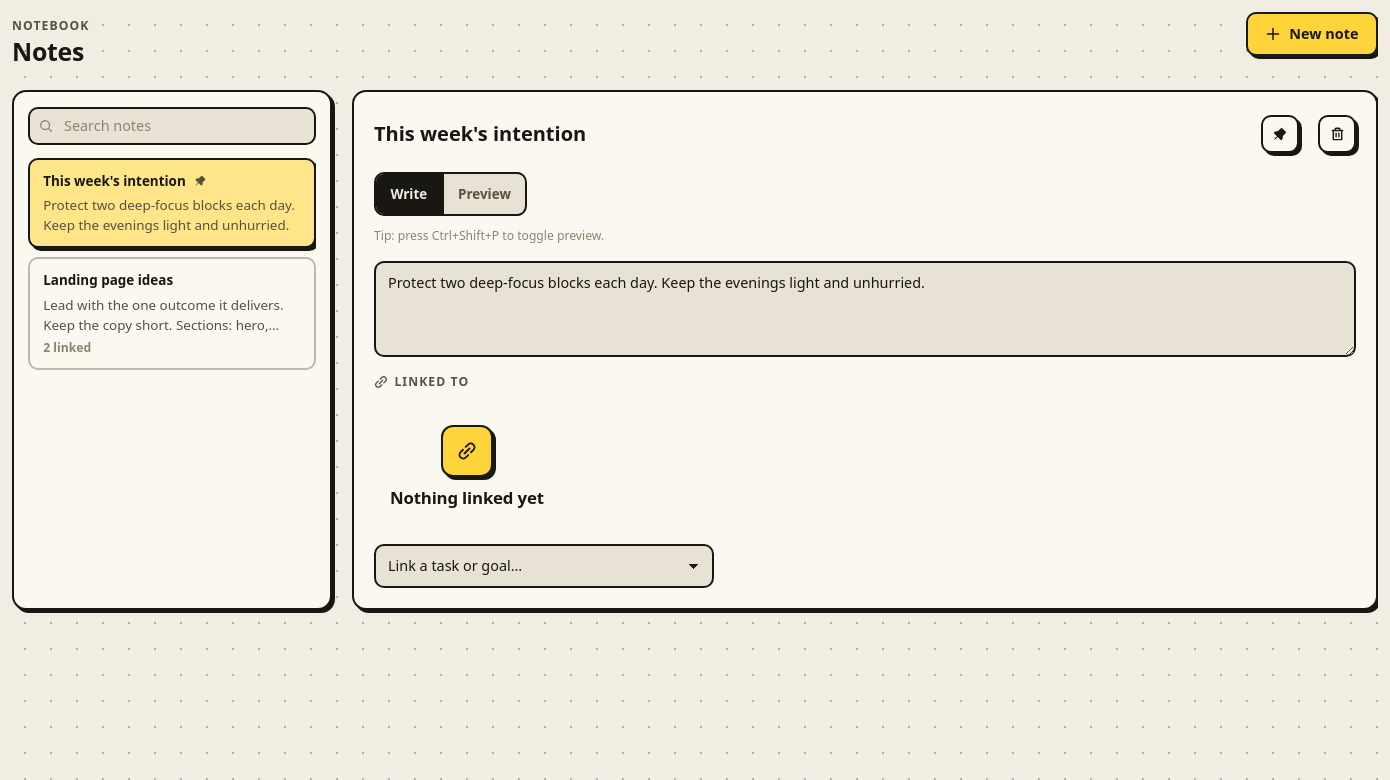
Test: NotesView › lists notes and opens an editor showing linked task and goal
Click the text "Landing page ideas": click(108, 280) 43,270 -> 173,291
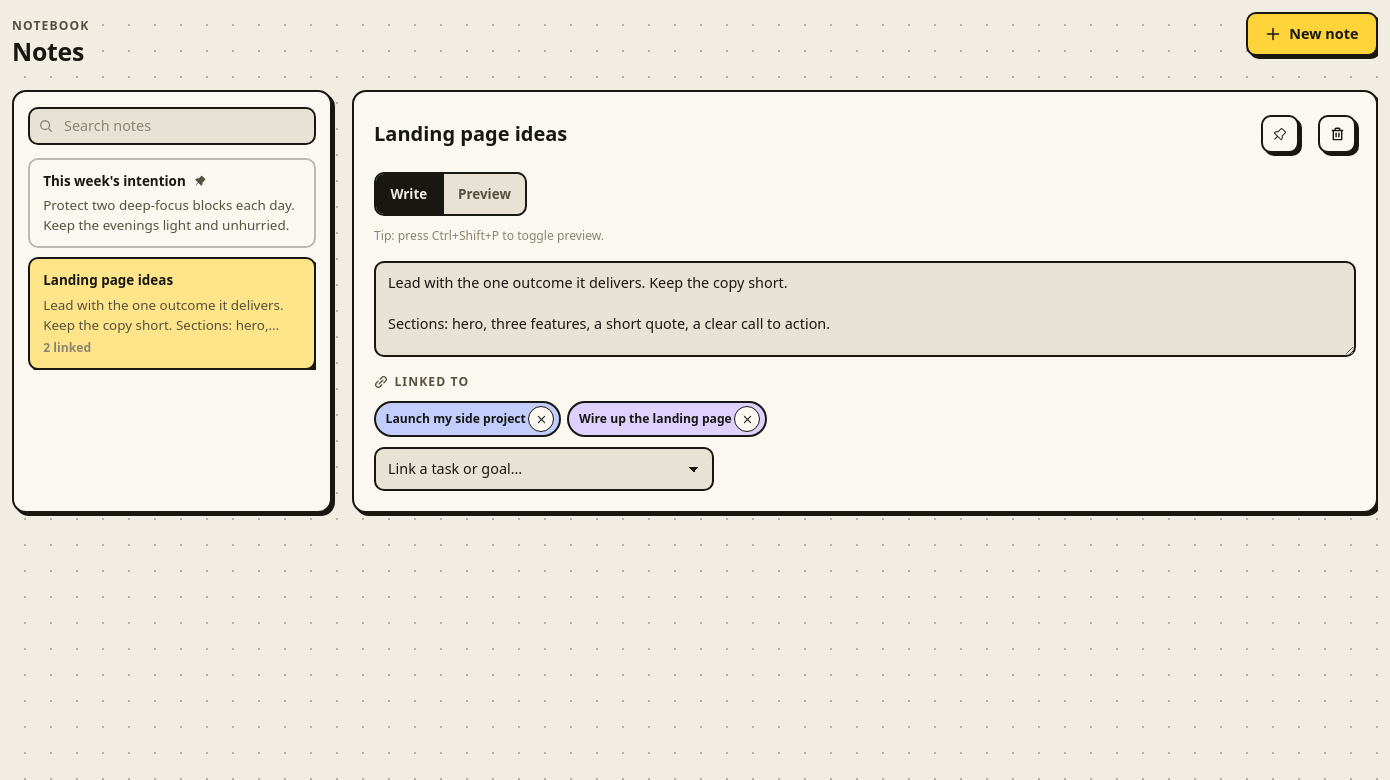
expect the field named "Note title" holds "Landing page ideas": met, box 374,112 -> 1251,156
expect the text "Launch my side project" is shown: met, box 374,401 -> 561,437
expect the text "Wire up the landing page" is shown: met, box 568,401 -> 767,437
